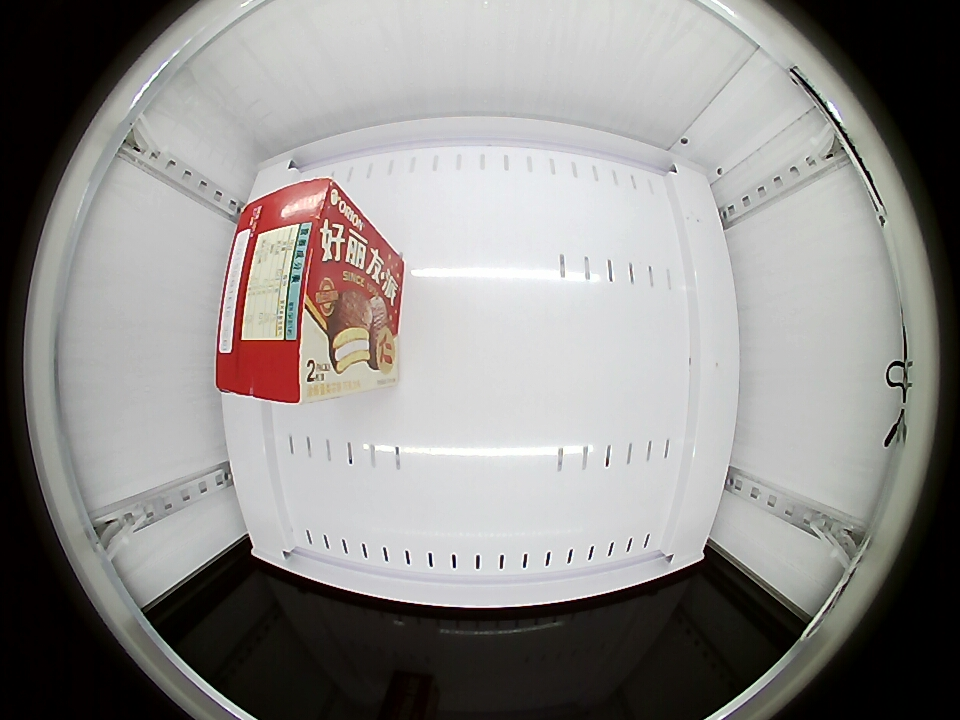haoliyou: (215, 179, 364, 405)
